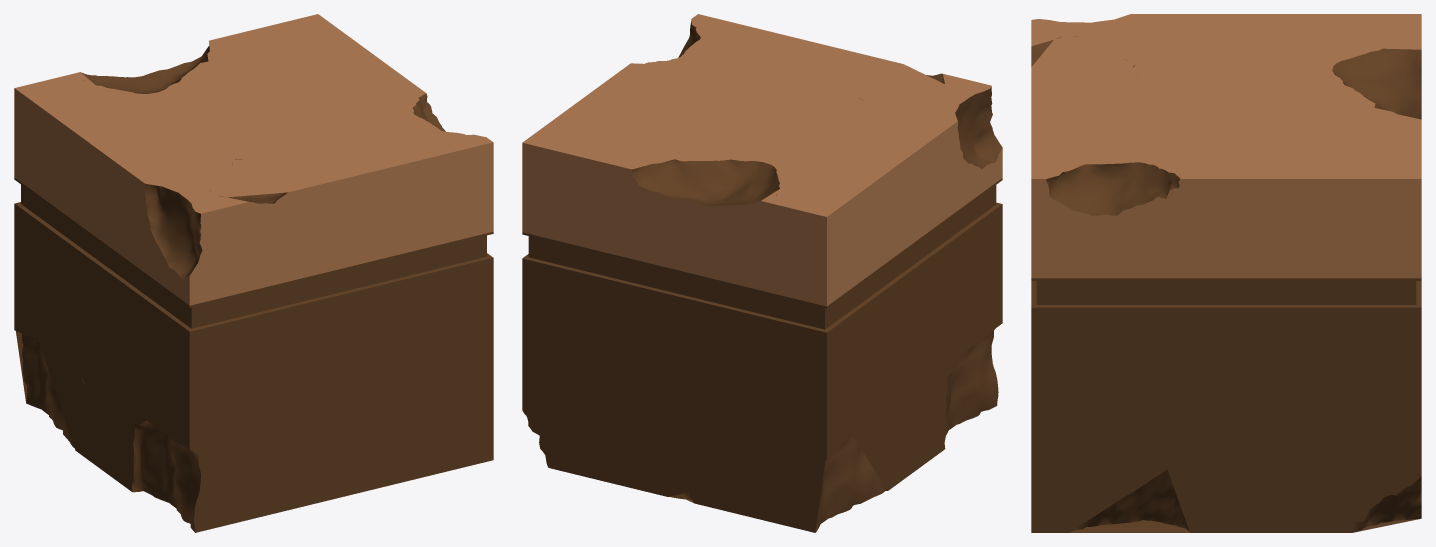
File: chest.fbx
The picture shows the model from 3 angles, left to right: view 1: azimuth 30°, elevation 25°; view 2: azimuth 150°, elevation 25°; view 3: azimuth 270°, elevation 25°; orthographic projection. The views are drawn at different scales.
Visible parts, largest first — view 1: Cube; view 2: Cube; view 3: Cube.
Boxes of the visible parts, x1=… form: Cube: x1=14, y1=14, x2=493, y2=532; Cube: x1=522, y1=14, x2=1002, y2=532; Cube: x1=1031, y1=14, x2=1421, y2=532.
Size of the model in its own units: 200 by 200 by 200.
